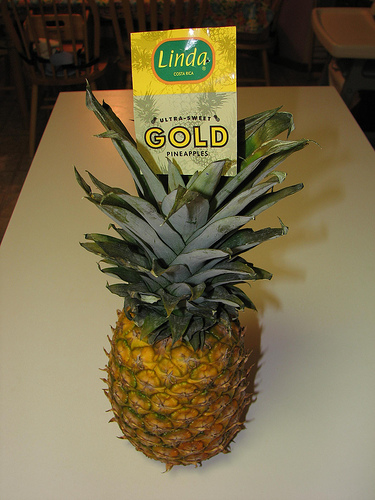pineapple: (71, 77, 325, 475)
